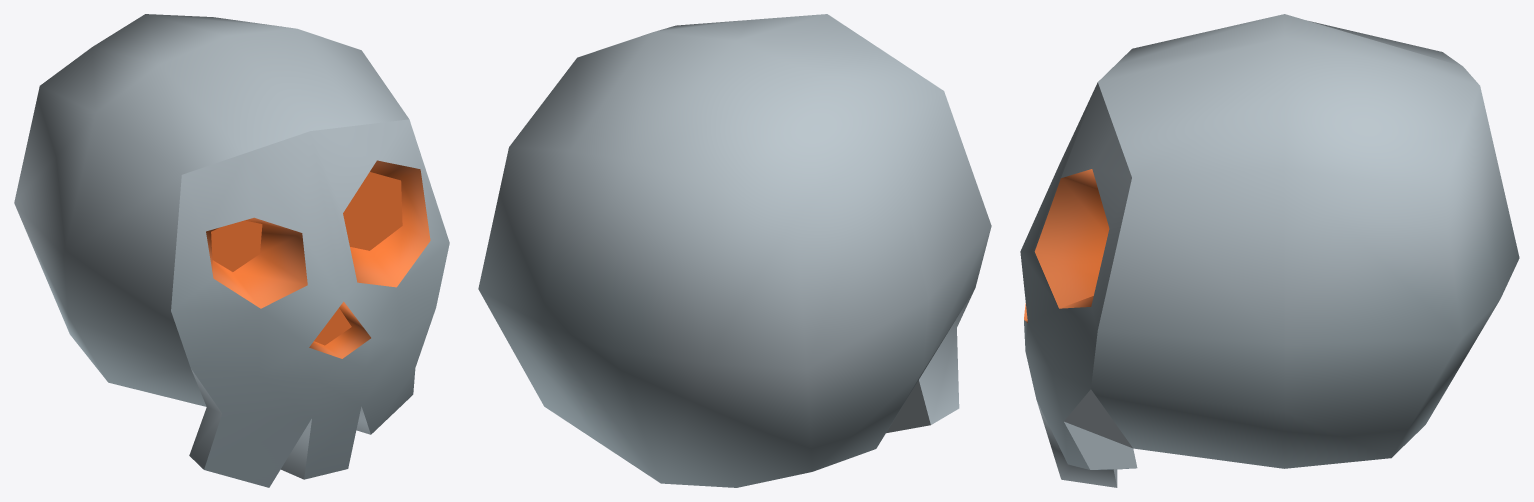
Rendered from Skull_2.FBX.
3 views of the same model, side by side, from view 1: azimuth 30°, elevation 25°; view 2: azimuth 150°, elevation 25°; view 3: azimuth 270°, elevation 25° (orthographic). The views are drawn at different scales.
Parts seen in each view (by area): view 1: Skull_1; view 2: Skull_1; view 3: Skull_1.
Part boxes in pixels (bbox=[...]): Skull_1: bbox=[14, 14, 449, 487]; Skull_1: bbox=[478, 14, 991, 487]; Skull_1: bbox=[1020, 14, 1519, 487].
Bounding box in the file's own units: 0.6299 × 0.671 × 0.6965.
